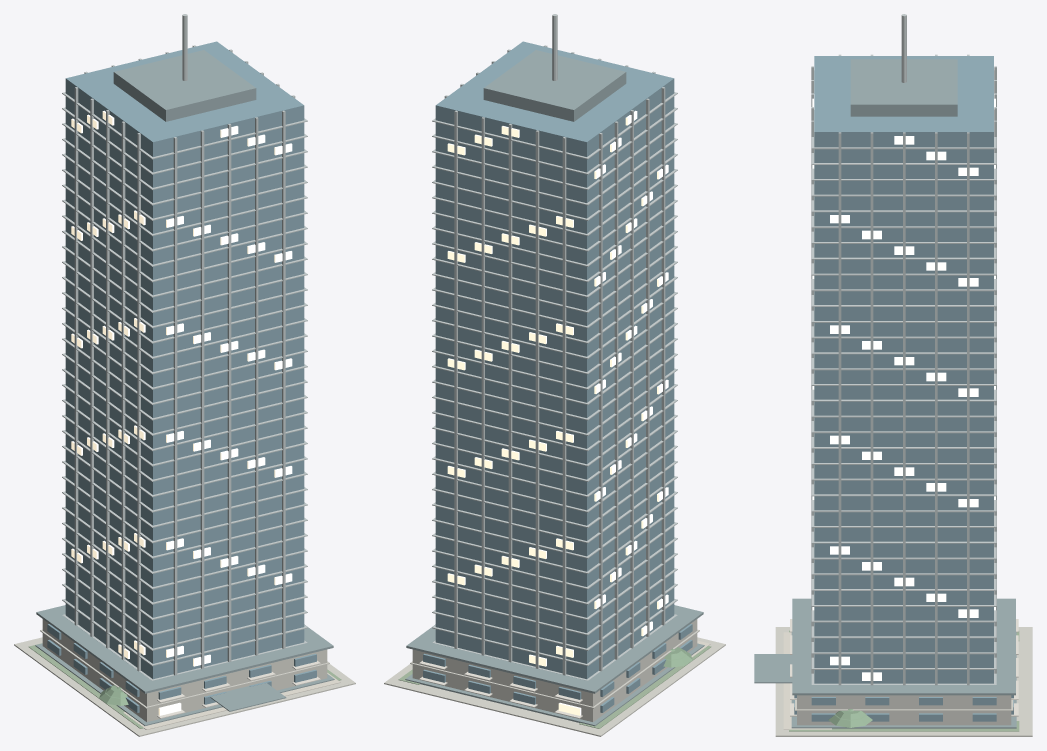
File: remaster_skyscraper_1.glb
3 views of the same model, side by side, from view 1: azimuth 30°, elevation 25°; view 2: azimuth 150°, elevation 25°; view 3: azimuth 270°, elevation 25° (orthographic). The views are drawn at different scales.
Parts seen in each view (by area): view 1: remaster_skyscraper_1 glass, remaster_skyscraper_1 metal, remaster_skyscraper_1 roof, remaster_skyscraper_1 stone, remaster_skyscraper_1 warm, remaster_skyscraper_1 cream, remaster_skyscraper_1 green, remaster_skyscraper_1 white; view 2: remaster_skyscraper_1 glass, remaster_skyscraper_1 metal, remaster_skyscraper_1 roof, remaster_skyscraper_1 stone, remaster_skyscraper_1 warm, remaster_skyscraper_1 white, remaster_skyscraper_1 green; view 3: remaster_skyscraper_1 glass, remaster_skyscraper_1 metal, remaster_skyscraper_1 roof, remaster_skyscraper_1 stone, remaster_skyscraper_1 warm, remaster_skyscraper_1 green, remaster_skyscraper_1 cream, remaster_skyscraper_1 leaf, remaster_skyscraper_1 white.
Boxes of the visible parts, box(x1,y1,x2,y2) form: remaster_skyscraper_1 glass: box(47, 41, 316, 712); remaster_skyscraper_1 metal: box(62, 14, 307, 680); remaster_skyscraper_1 roof: box(35, 50, 334, 725); remaster_skyscraper_1 stone: box(14, 619, 355, 736); remaster_skyscraper_1 warm: box(71, 110, 292, 715); remaster_skyscraper_1 cream: box(123, 673, 340, 729); remaster_skyscraper_1 green: box(28, 643, 341, 728); remaster_skyscraper_1 white: box(157, 660, 320, 718); remaster_skyscraper_1 glass: box(423, 41, 692, 712); remaster_skyscraper_1 metal: box(432, 14, 677, 680); remaster_skyscraper_1 roof: box(405, 50, 704, 726); remaster_skyscraper_1 stone: box(384, 619, 725, 736); remaster_skyscraper_1 warm: box(447, 110, 668, 715); remaster_skyscraper_1 white: box(419, 660, 582, 718); remaster_skyscraper_1 green: box(398, 646, 711, 728); remaster_skyscraper_1 glass: box(794, 56, 1013, 721); remaster_skyscraper_1 metal: box(811, 14, 996, 685); remaster_skyscraper_1 roof: box(754, 59, 1016, 728); remaster_skyscraper_1 stone: box(775, 627, 1032, 736); remaster_skyscraper_1 warm: box(812, 94, 995, 680); remaster_skyscraper_1 green: box(789, 630, 1019, 731); remaster_skyscraper_1 cream: box(783, 632, 831, 729); remaster_skyscraper_1 leaf: box(828, 709, 872, 727); remaster_skyscraper_1 white: box(790, 619, 1018, 716).
Bounding box in the file's own units: 38.58 × 110 × 41.6.
